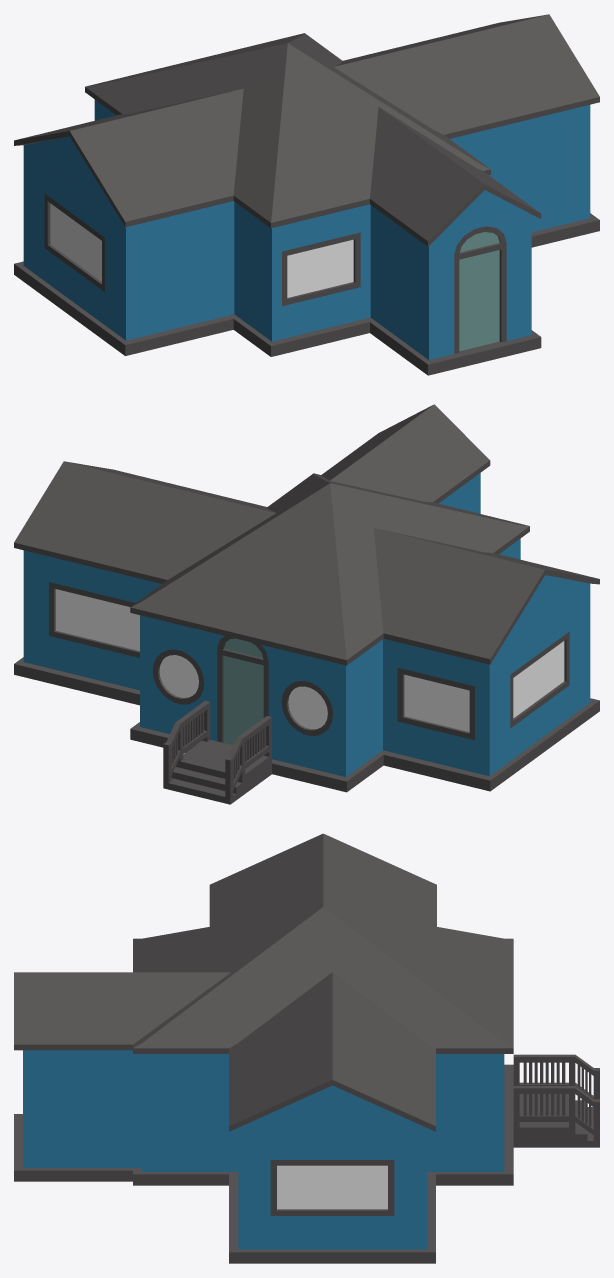
Rendered from House #4.fbx.
The picture shows the model from 3 angles, top to bottom: view 1: azimuth 30°, elevation 25°; view 2: azimuth 150°, elevation 25°; view 3: azimuth 270°, elevation 25°; orthographic projection. The views are drawn at different scales.
Parts seen in each view (by area): view 1: building_001; view 2: building_001; view 3: building_001.
Boxes of the visible parts, x1,y1,x2,y2 form: building_001: [14, 14, 599, 375]; building_001: [14, 404, 599, 804]; building_001: [14, 833, 599, 1263].
Size of the model in its own units: 925 by 400 by 949.
